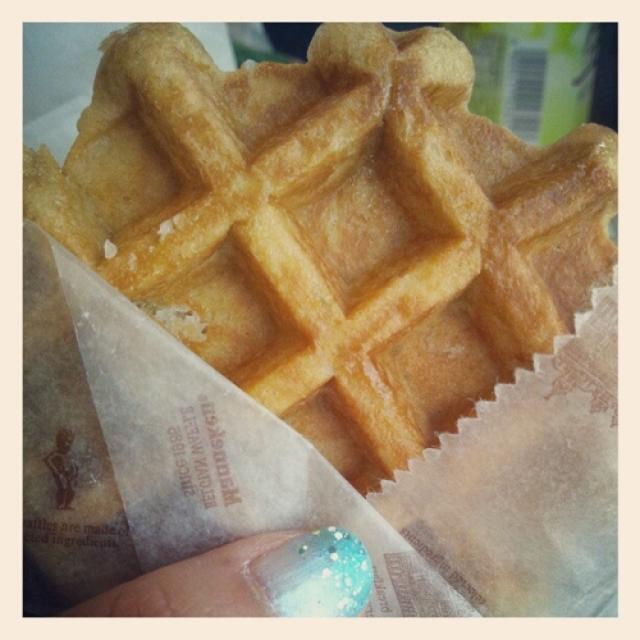炸货点心: (37, 37, 613, 597)
蛋糕甜品: (37, 37, 613, 597)
